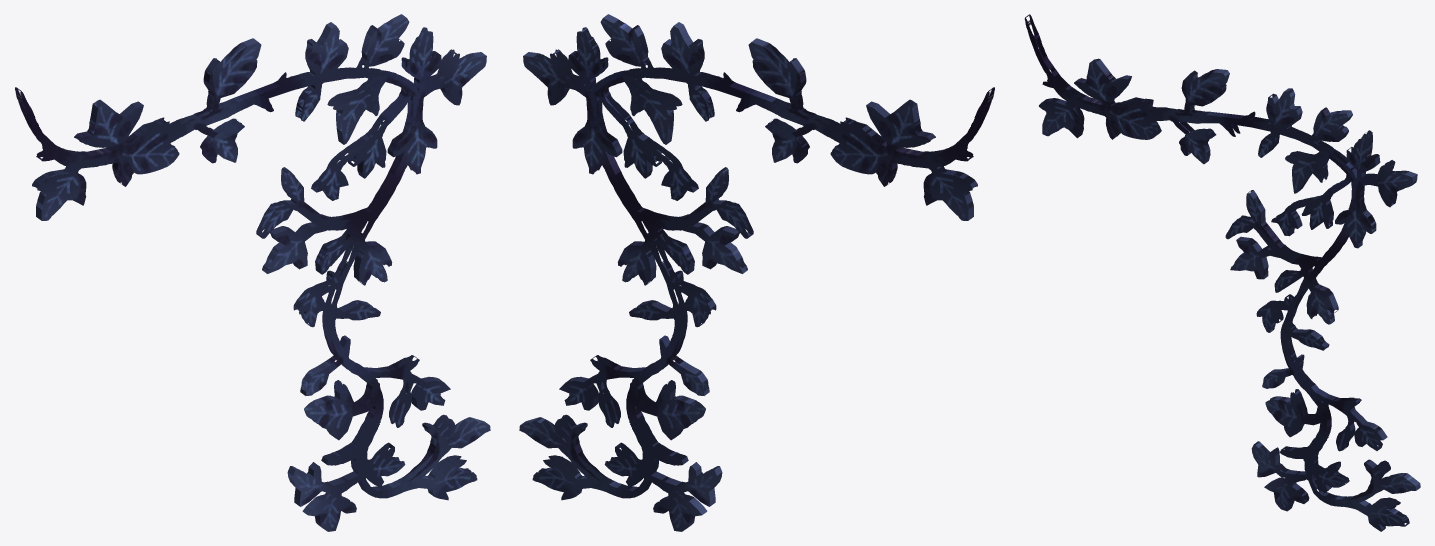
Rendered from Vines 1.fbx.
The picture shows the model from 3 angles, left to right: view 1: azimuth 30°, elevation 25°; view 2: azimuth 150°, elevation 25°; view 3: azimuth 330°, elevation 25°; orthographic projection. The views are drawn at different scales.
Visible parts, largest first — view 1: Vines.001; view 2: Vines.001; view 3: Vines.001.
Part boxes in pixels (left/top/right/bottom): Vines.001: left=15, top=14, right=490, bottom=531; Vines.001: left=519, top=14, right=994, bottom=531; Vines.001: left=1024, top=14, right=1420, bottom=531.
Bounding box in the file's own units: 49.83 × 52.26 × 1.
